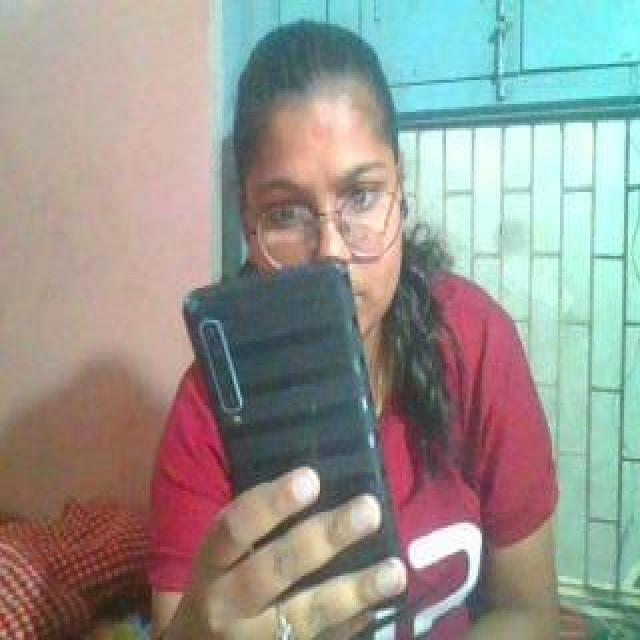phone: (186, 261, 404, 583)
